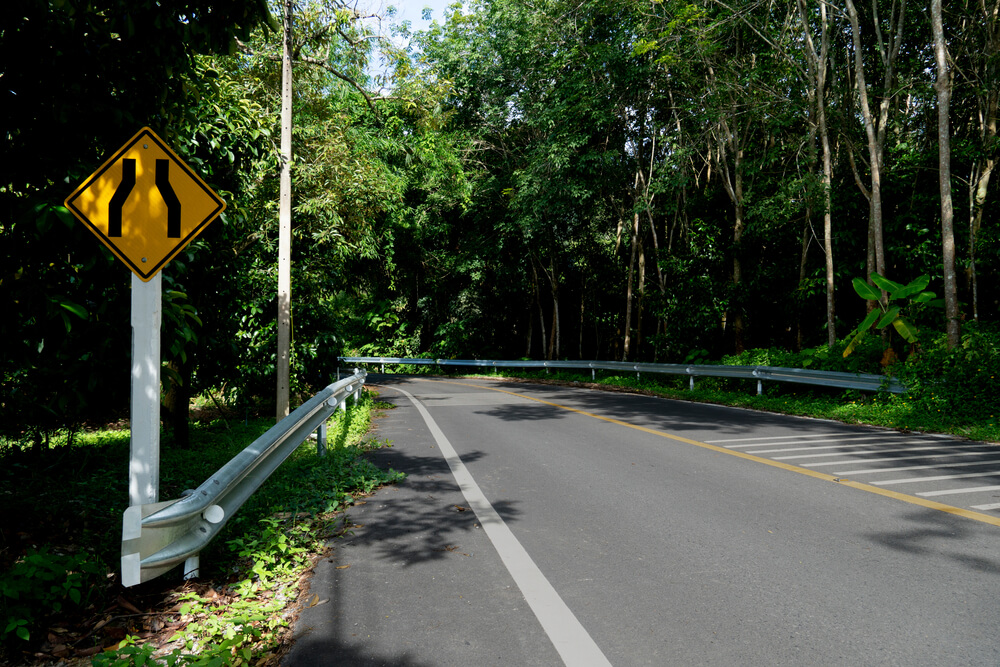narrow-road: (65, 124, 230, 286)
